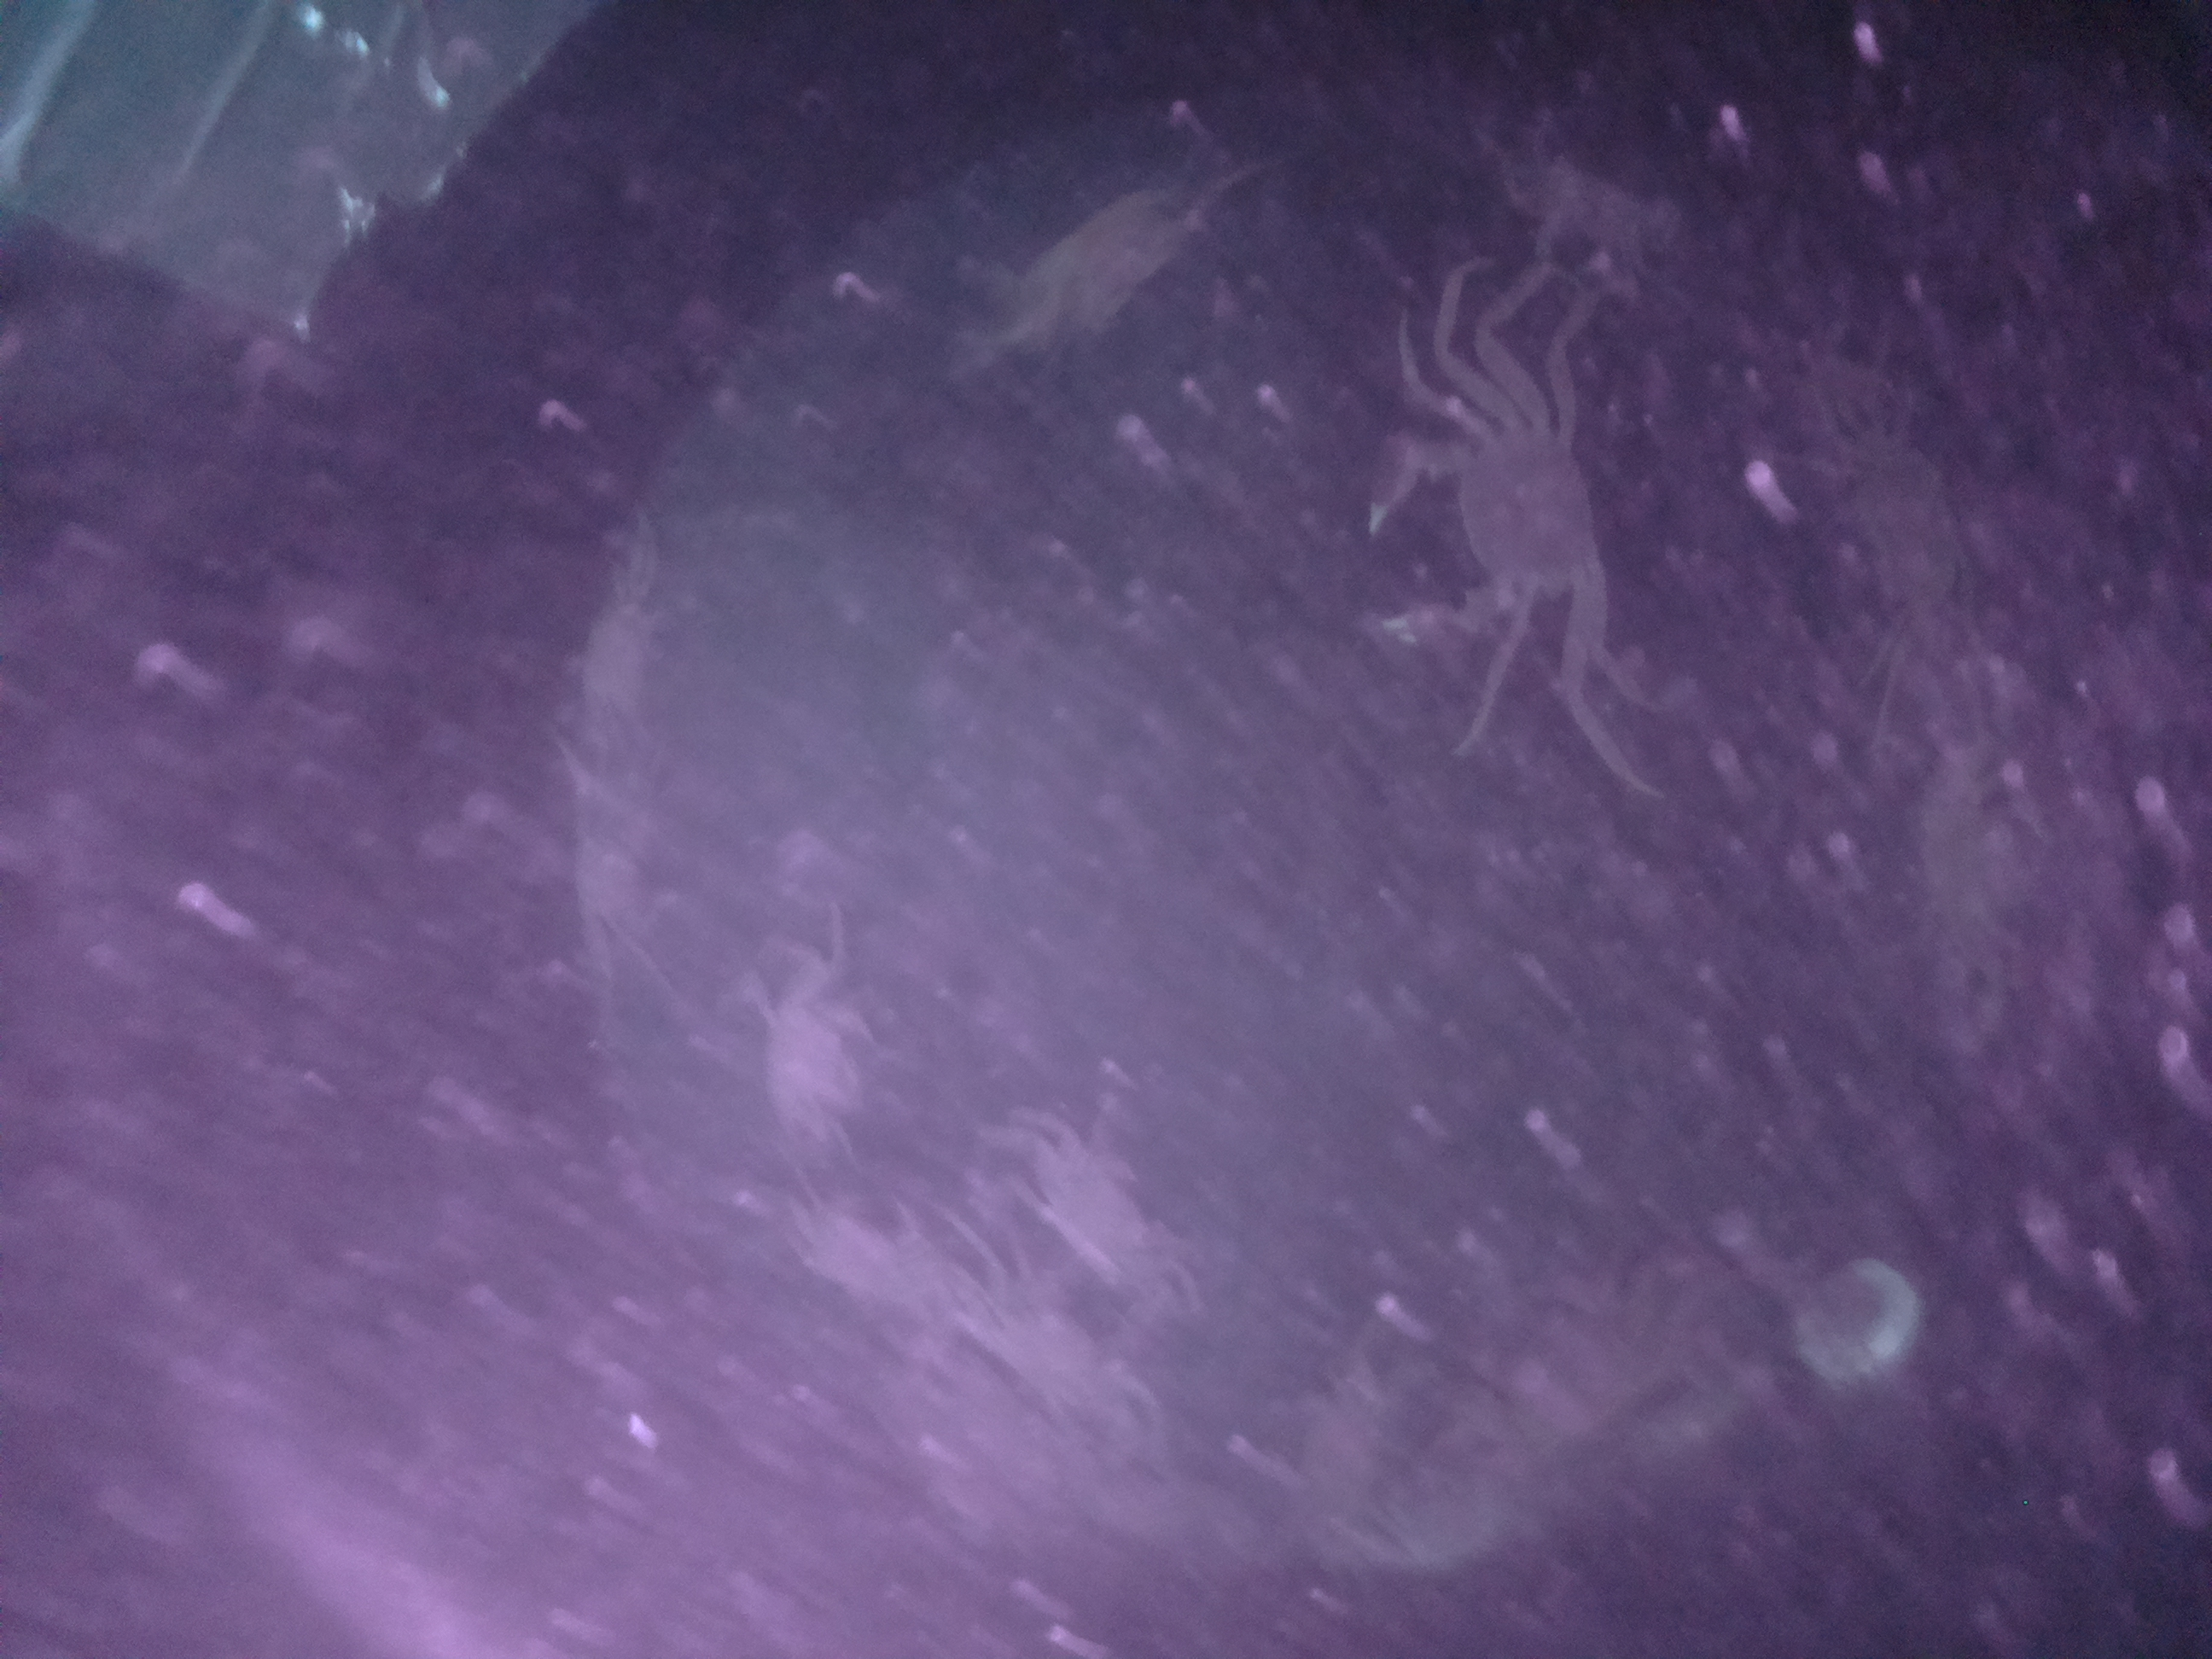Crab: (1334, 368, 1637, 674)
